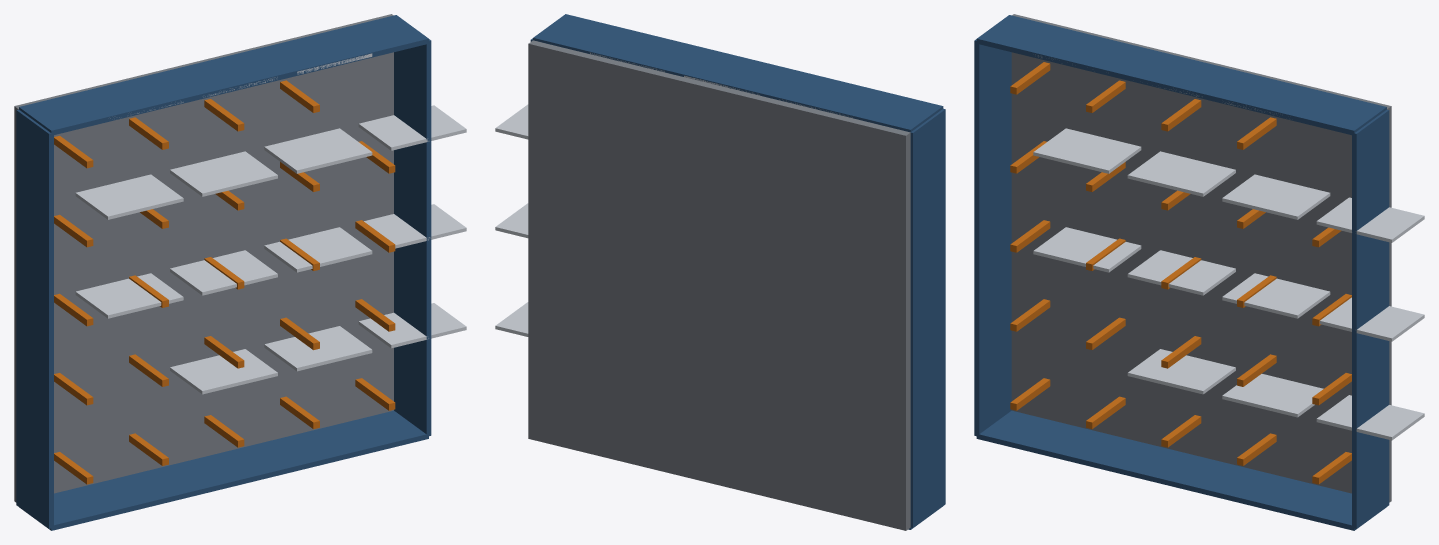
The model's file is blueprint_3d_proj1_550.obj.
The picture shows the model from 3 angles, left to right: view 1: azimuth 30°, elevation 25°; view 2: azimuth 150°, elevation 25°; view 3: azimuth 330°, elevation 25°; orthographic projection.
Parts seen in each view (by area): view 1: Foundation_Slab, Ext_Wall_West, Ext_Wall_North, Ext_Wall_South, Ext_Wall_East, Int_Wall_10, Int_Wall_8, Int_Wall_9, Int_Wall_1, Int_Wall_2, Int_Wall_4, Int_Wall_6 (+4 smaller); view 2: Foundation_Slab, Ext_Wall_West, Ext_Wall_North, Int_Wall_11, Int_Wall_3, Int_Wall_7; view 3: Foundation_Slab, Ext_Wall_West, Ext_Wall_North, Ext_Wall_South, Ext_Wall_East, Int_Wall_9, Int_Wall_10, Int_Wall_8, Int_Wall_1, Int_Wall_5, Int_Wall_6, Int_Wall_4 (+4 smaller).
Boxes of the visible parts, box(x1,y1,x2,y2) form: Foundation_Slab: box(14, 14, 393, 502); Ext_Wall_West: box(16, 109, 53, 528); Ext_Wall_North: box(19, 15, 428, 135); Ext_Wall_South: box(19, 410, 428, 530); Ext_Wall_East: box(394, 39, 431, 436); Int_Wall_10: box(264, 128, 372, 173); Int_Wall_8: box(75, 174, 183, 219); Int_Wall_9: box(170, 151, 277, 196); Int_Wall_1: box(170, 349, 277, 394); Int_Wall_2: box(264, 326, 372, 371); Int_Wall_4: box(75, 273, 183, 318); Int_Wall_6: box(264, 227, 372, 272); Foundation_Slab: box(528, 40, 910, 530); Ext_Wall_West: box(910, 108, 945, 527); Ext_Wall_North: box(533, 14, 943, 132); Int_Wall_11: box(495, 104, 528, 139); Int_Wall_3: box(495, 302, 528, 336); Int_Wall_7: box(495, 203, 528, 238); Foundation_Slab: box(1011, 14, 1391, 502); Ext_Wall_West: box(974, 39, 1011, 436); Ext_Wall_North: box(976, 15, 1386, 135); Ext_Wall_South: box(976, 410, 1383, 530); Ext_Wall_East: box(1352, 109, 1389, 528); Int_Wall_9: box(1127, 151, 1235, 196); Int_Wall_10: box(1222, 174, 1330, 219); Int_Wall_8: box(1033, 128, 1141, 173); Int_Wall_1: box(1127, 349, 1235, 394); Int_Wall_5: box(1127, 250, 1235, 295); Int_Wall_6: box(1222, 273, 1330, 318); Int_Wall_4: box(1033, 227, 1141, 272).
Size of the model in its own units: 25.95 by 23.75 by 4.1.
